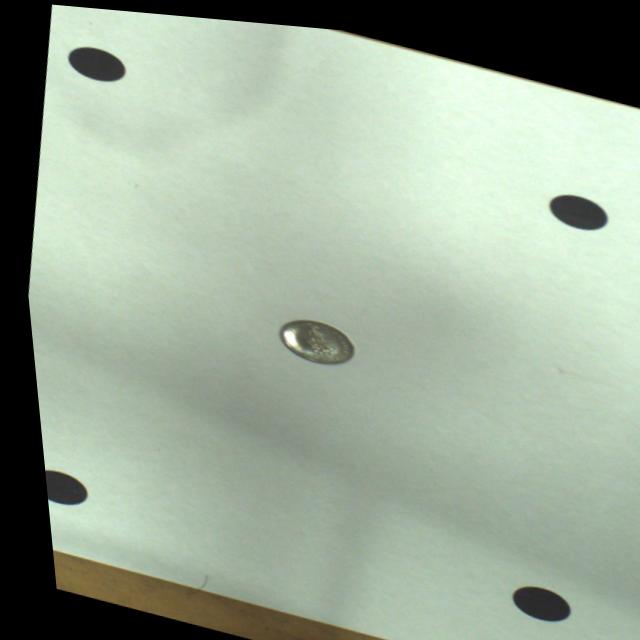space: (67, 44, 125, 79), (501, 576, 558, 611), (546, 183, 603, 218), (36, 468, 76, 504)
tail1bath: (274, 313, 345, 357)
